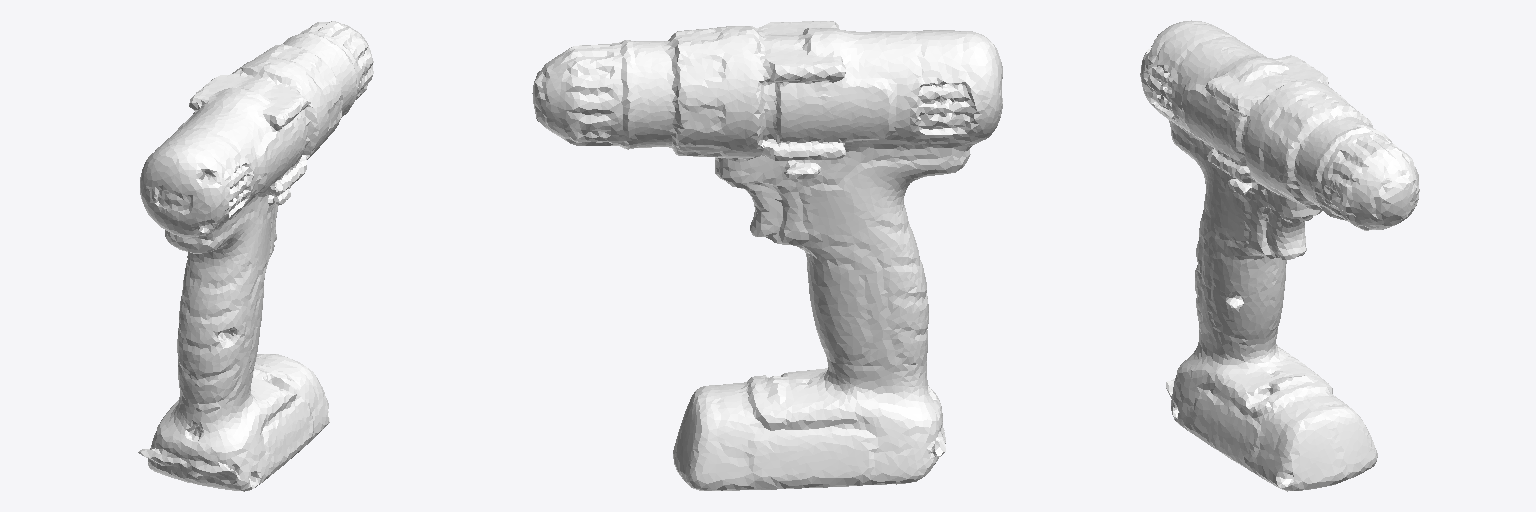
URDF robot description (model.urdf):
<?xml version="0.0" ?>
<robot name="model.urdf">
  <link name="baseLink">
    <contact>
      <friction_anchor/>
      <lateral_friction value="0.9"/>
      <rolling_friction value="0.0"/>
      <contact_cfm value="0.0"/>
      <contact_erp value="1.0"/>
    </contact>
    <inertial>
       <origin rpy="0 0 0" xyz="0 0 0"/>
       <mass value=".895"/>
       <inertia ixx="1e-3" ixy="0" ixz="0" iyy="1e-3" iyz="0" izz="1e-3"/>
    </inertial>
    <visual>
      <geometry>
        <mesh filename="textured_simple_reoriented_1.obj" scale="1 1 1"/>
      </geometry>
      <material name="white">
        <color rgba="1. 1. 1. 1."/>
      </material>
    </visual>
    <collision>
      <geometry>
    	 	<mesh filename="collision_vhacd_1.obj" scale="1 1 1"/>
      </geometry>
    </collision>
  </link>
</robot>

--- Facts derived from the render (not from the file) ---
Views: 3 orthographic renders of the robot side by side, from view 1: azimuth 30°, elevation 25°; view 2: azimuth 150°, elevation 25°; view 3: azimuth 270°, elevation 25°.
Robot: model.urdf — 1 links, 0 joints (none); root link baseLink; default pose: every joint at zero.
Visible links, largest first — view 1: baseLink; view 2: baseLink; view 3: baseLink.
Boxes of the visible links, left/top/right/bottom form: baseLink: left=138, top=21, right=373, bottom=491; baseLink: left=532, top=21, right=1002, bottom=490; baseLink: left=1140, top=20, right=1419, bottom=491.
Size in the robot's own frame: 0.163 by 0.1232 by 0.1874 metres.
Meshes: 1 distinct files referenced, 1 mesh visuals loaded (1 OBJ).